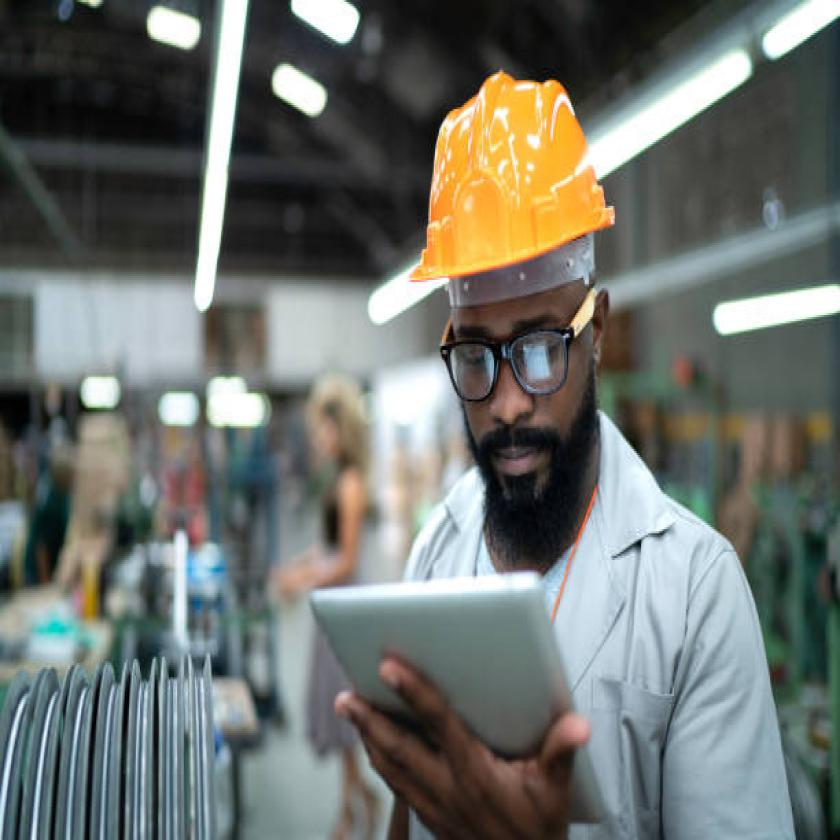Con_casco: (422, 66, 620, 532)
